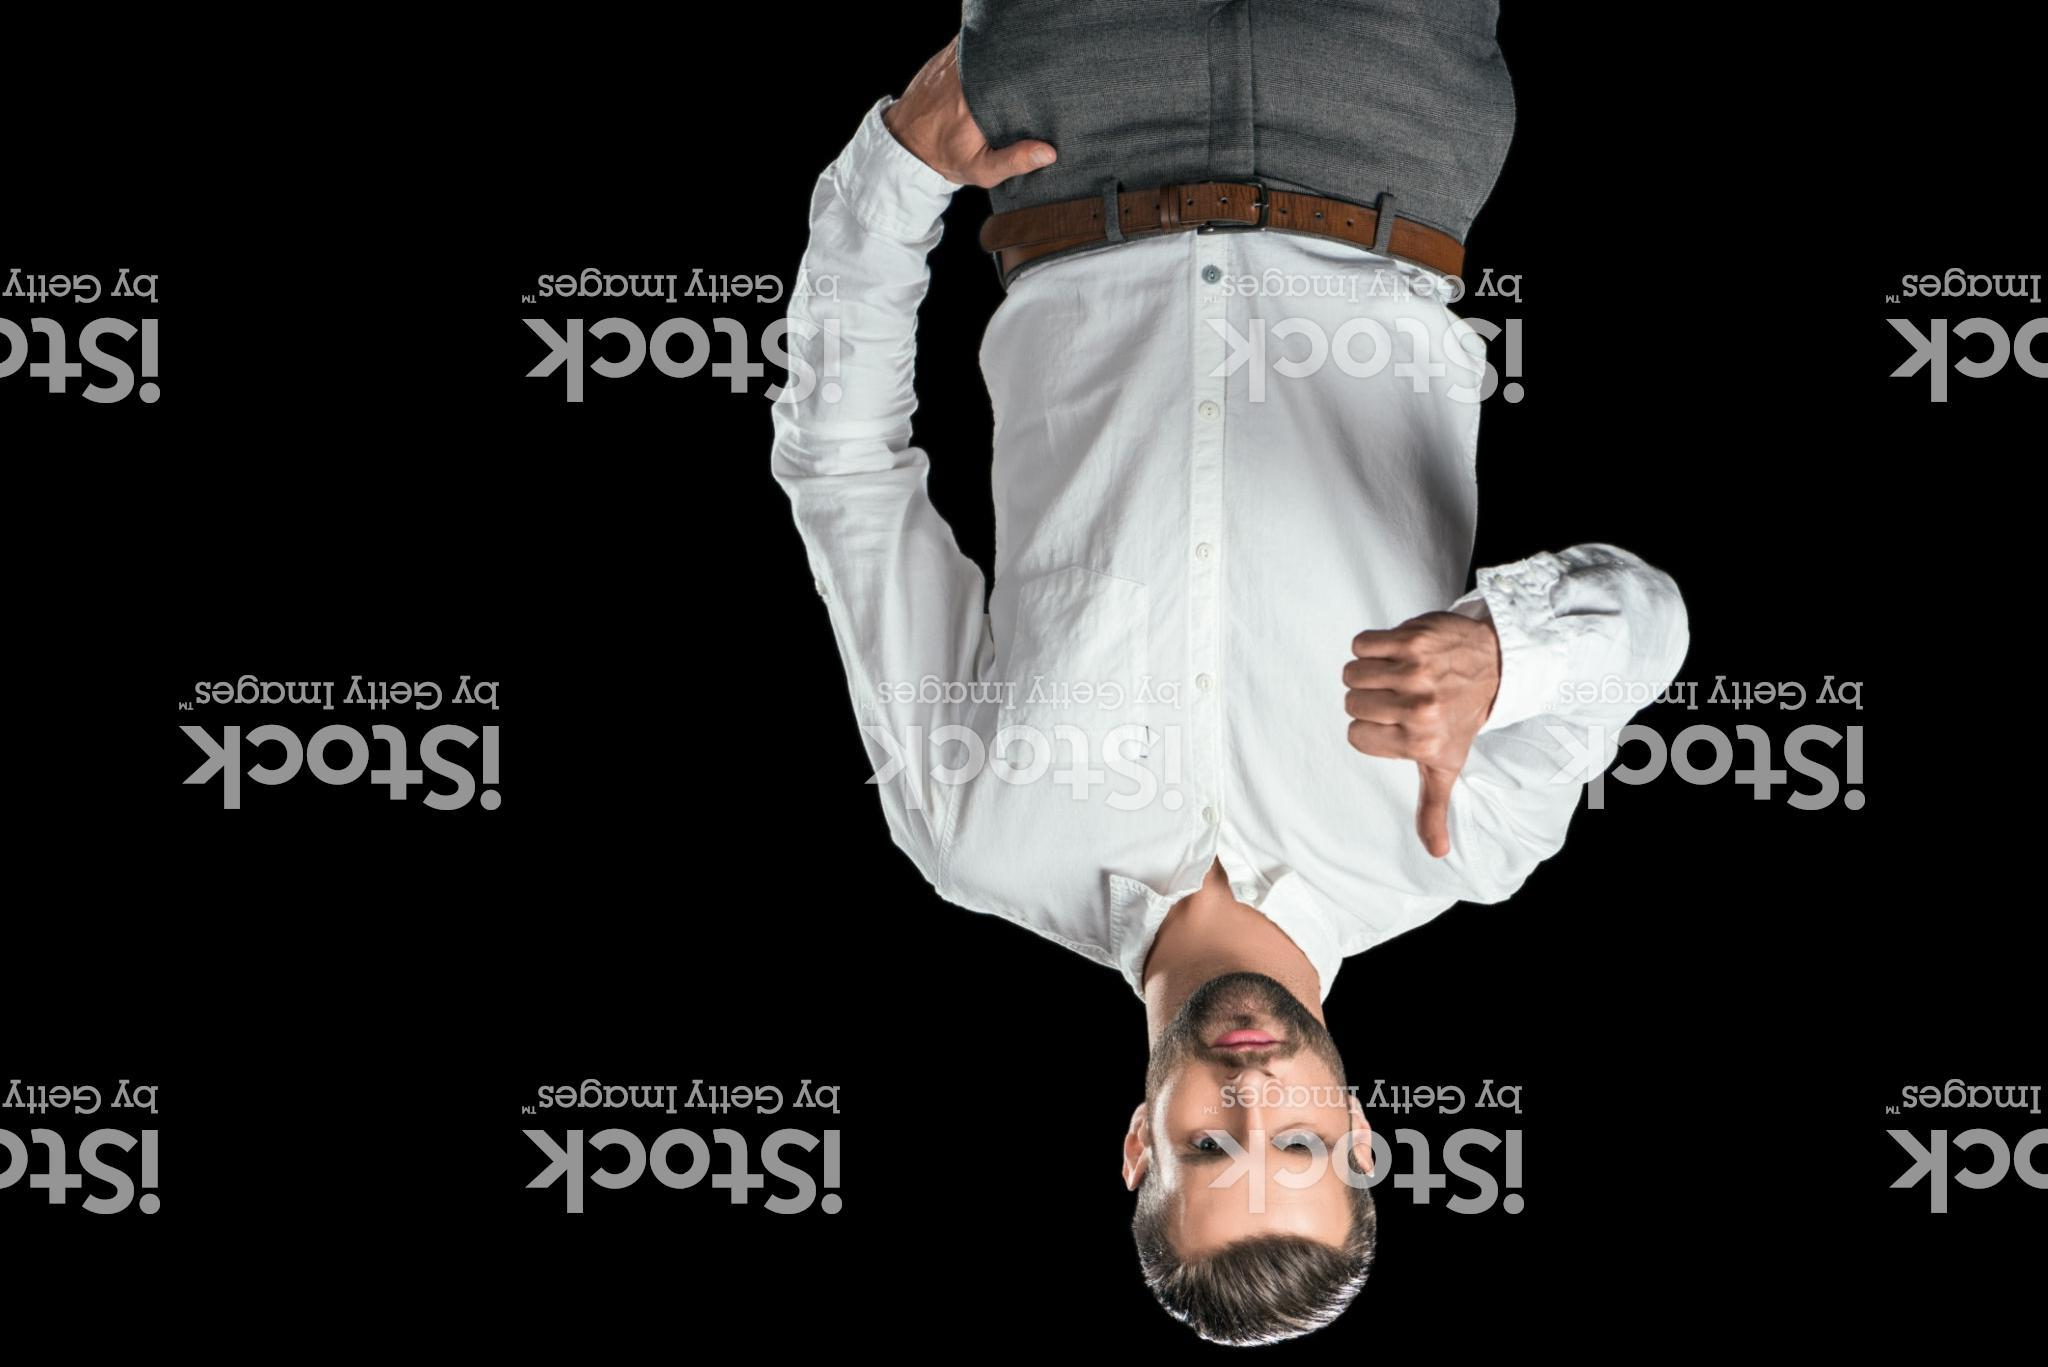thumbsdown: (1337, 615, 1481, 862)
